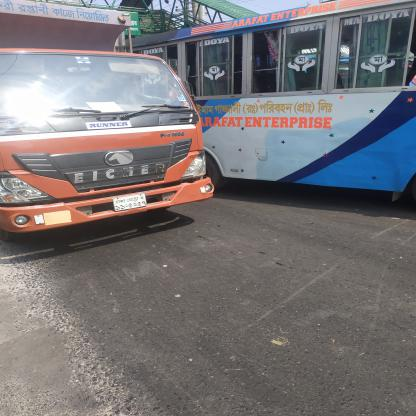license_plate: (107, 193, 150, 212)
